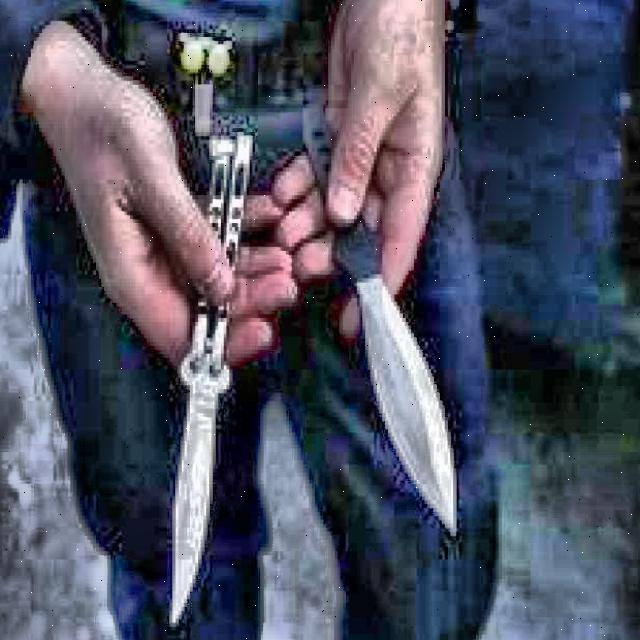knife: (304, 106, 456, 532), (170, 136, 253, 624)
